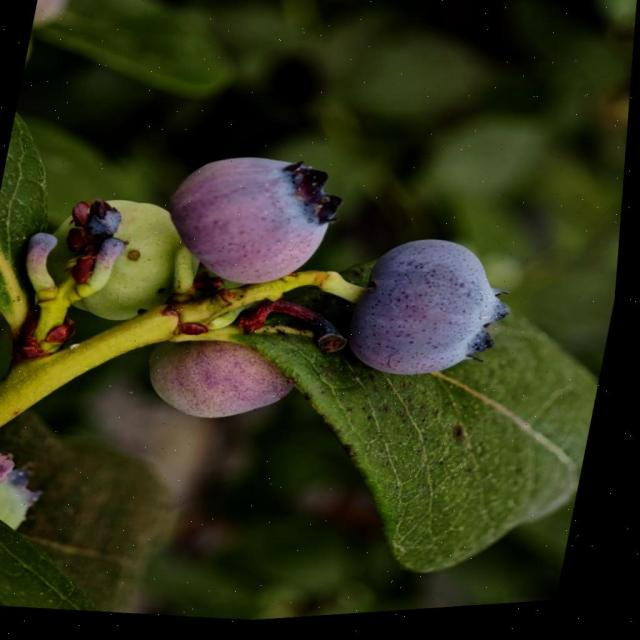RipeBlueBerry: (352, 234, 518, 394)
Semi-RipeBlueBerry: (168, 146, 341, 296)
